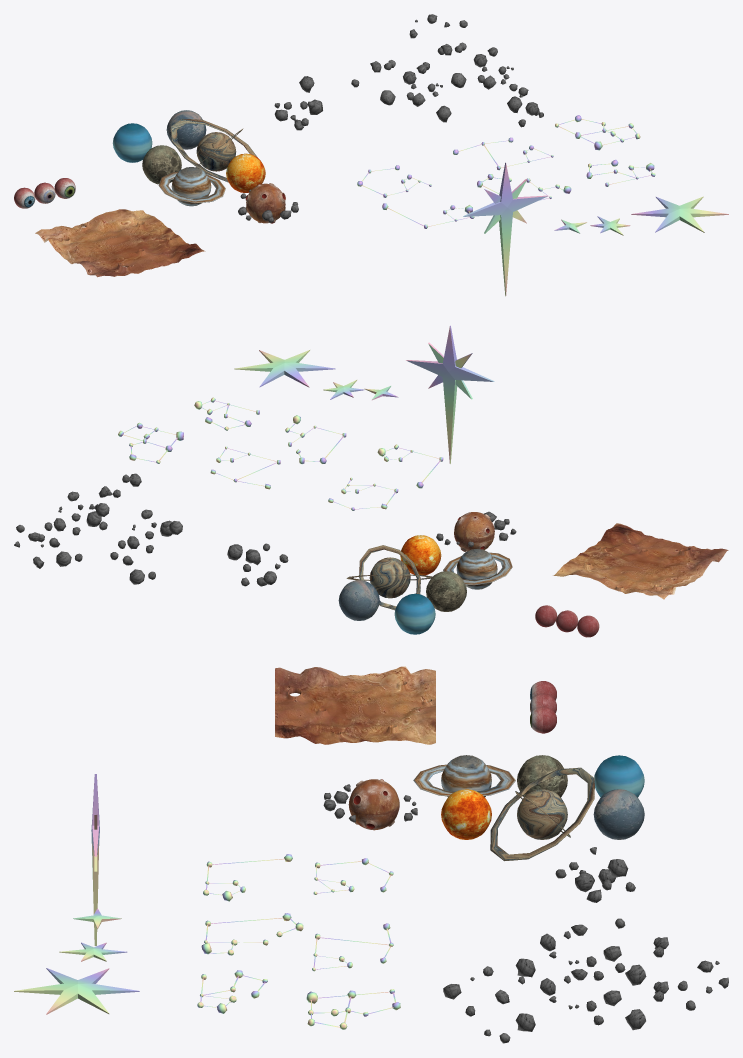
The model's file is Planet.fbx.
3 renders of one model, top to bottom at view 1: azimuth 30°, elevation 25°; view 2: azimuth 150°, elevation 25°; view 3: azimuth 270°, elevation 25°, orthographic. The views are drawn at different scales.
Visible parts, largest first — view 1: MarsSurface, 8Star, Saturn, Jupiter, Neptune, Sun, B612, Plane.002, Moon, Venus, ChomBoo; view 2: MarsSurface, 8Star, Saturn, Jupiter, Neptune, Venus, Moon, B612, Plane.002, Sun; view 3: MarsSurface, Saturn, Jupiter, B612, Sun, Venus, Plane.002, Neptune, Moon, 8Star, ChomBoo, B612Rings (+2 smaller).
Part boxes in pixels (<box>): MarsSurface: <box>35,209,205,277</box>; 8Star: <box>463,162,548,296</box>; Saturn: <box>170,118,257,182</box>; Jupiter: <box>158,167,225,206</box>; Neptune: <box>112,123,152,162</box>; Sun: <box>226,153,265,192</box>; B612: <box>245,183,285,223</box>; Plane.002: <box>631,196,728,232</box>; Moon: <box>142,145,181,184</box>; Venus: <box>166,110,206,149</box>; ChomBoo: <box>555,115,640,150</box>; MarsSurface: <box>553,523,728,599</box>; 8Star: <box>406,325,494,463</box>; Saturn: <box>346,545,432,610</box>; Jupiter: <box>443,549,512,589</box>; Neptune: <box>394,593,435,634</box>; Venus: <box>338,580,379,620</box>; Moon: <box>426,571,466,611</box>; B612: <box>454,512,494,552</box>; Plane.002: <box>234,350,335,387</box>; Sun: <box>400,535,441,575</box>; MarsSurface: <box>275,666,435,744</box>; Saturn: <box>490,767,594,861</box>; Jupiter: <box>413,755,515,797</box>; B612: <box>348,779,399,830</box>; Sun: <box>441,789,491,839</box>; Venus: <box>593,789,644,839</box>; Plane.002: <box>14,968,139,1014</box>; Neptune: <box>594,755,644,797</box>; Moon: <box>517,755,567,797</box>; 8Star: <box>91,774,99,945</box>; ChomBoo: <box>306,989,400,1029</box>; B612Rings: <box>323,784,417,822</box>.
Size of the model in its own units: 3272 by 743 by 2801.
11 materials, 11 textured.
